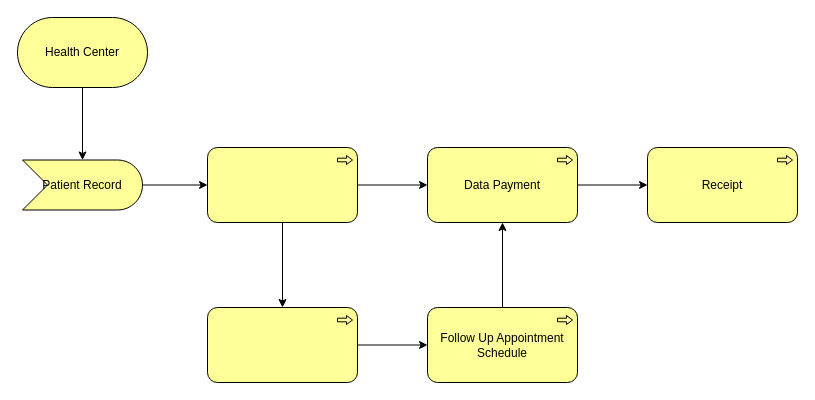
This 815x400 diagram has some shape labels left out. Here are the shapes that lost their labels. From the top down, the centre of each, then its label:
(x=282, y=184): Check Up Patient
(x=282, y=344): Diagnostic Treatment Plan
